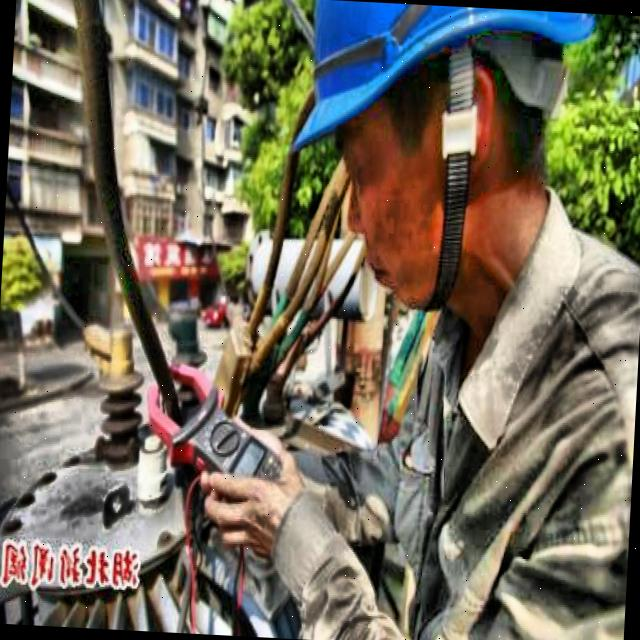helmet: (276, 0, 600, 326)
